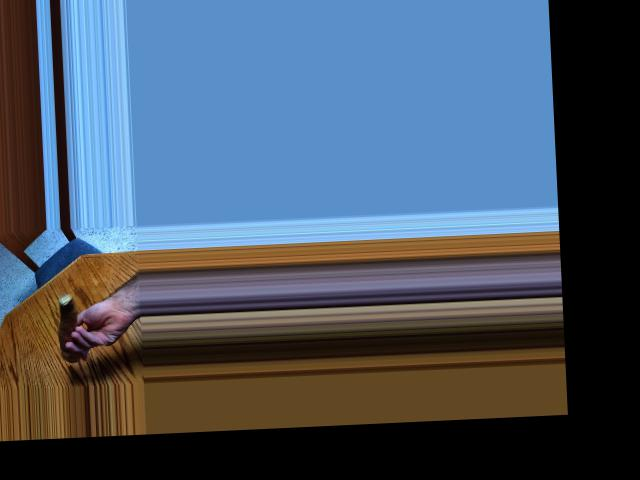sweet_potato: (55, 292, 87, 364)
